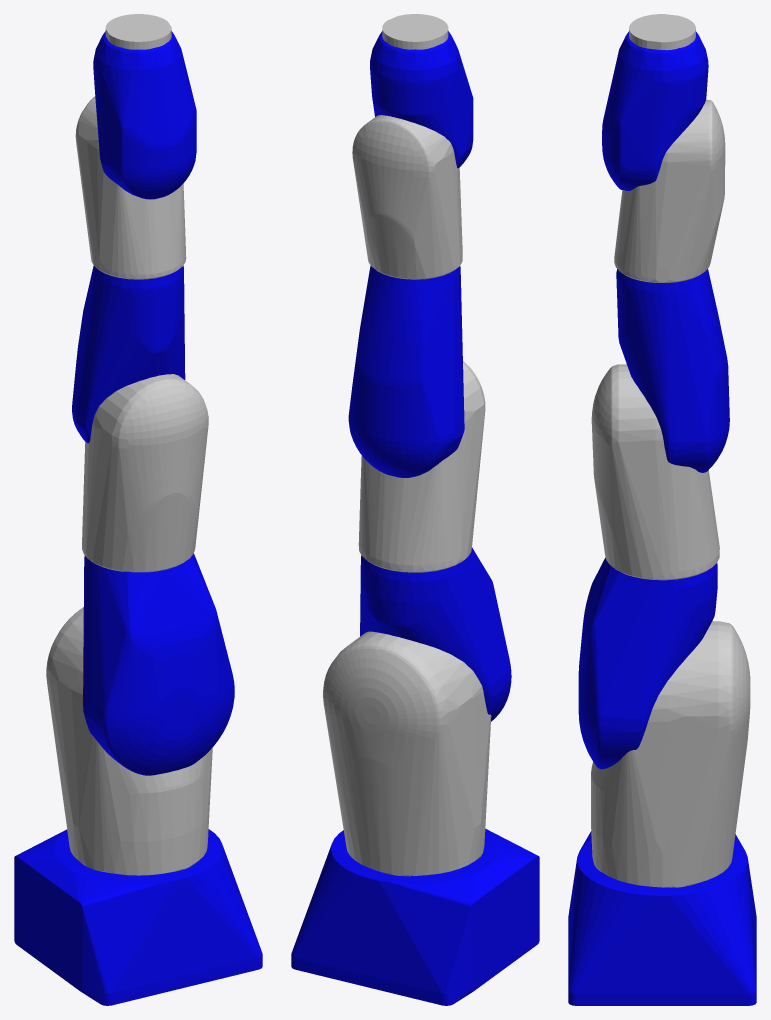
File: sia10f_tool0.dae
3 views of the same model, side by side, from view 1: azimuth 30°, elevation 25°; view 2: azimuth 150°, elevation 25°; view 3: azimuth 270°, elevation 25° (orthographic).
Parts seen in each view (by area): view 1: base_link, link_l, link_e, link_s, link_b, link_u, link_r, link_t; view 2: link_s, base_link, link_u, link_r, link_e, link_l, link_b, link_t; view 3: link_s, base_link, link_e, link_l, link_u, link_r, link_b, link_t.
Boxes of the visible parts, left/top/right/bottom form: base_link: left=14, top=829, right=262, bottom=1005; link_l: left=83, top=553, right=234, bottom=775; link_e: left=82, top=374, right=208, bottom=572; link_s: left=46, top=607, right=212, bottom=875; link_b: left=93, top=31, right=196, bottom=199; link_u: left=72, top=265, right=185, bottom=443; link_r: left=75, top=96, right=186, bottom=279; link_t: left=105, top=14, right=171, bottom=49; link_s: left=323, top=631, right=491, bottom=876; base_link: left=291, top=828, right=539, bottom=1005; link_u: left=348, top=266, right=464, bottom=477; link_r: left=352, top=115, right=462, bottom=279; link_e: left=358, top=361, right=485, bottom=572; link_l: left=360, top=547, right=511, bottom=721; link_b: left=370, top=31, right=473, bottom=168; link_t: left=382, top=14, right=448, bottom=49; link_s: left=591, top=621, right=750, bottom=887; base_link: left=568, top=831, right=756, bottom=1005; link_e: left=591, top=364, right=719, bottom=580; link_l: left=578, top=557, right=717, bottom=769; link_u: left=616, top=269, right=729, bottom=472; link_r: left=614, top=99, right=725, bottom=282; link_b: left=602, top=31, right=708, bottom=190; link_t: left=629, top=14, right=695, bottom=50.
Bounding box in the file's own units: 0.2385 × 0.225 × 1.24.
